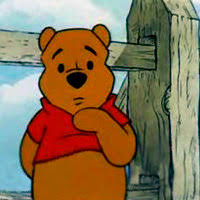Winnie: (30, 23, 120, 133)
